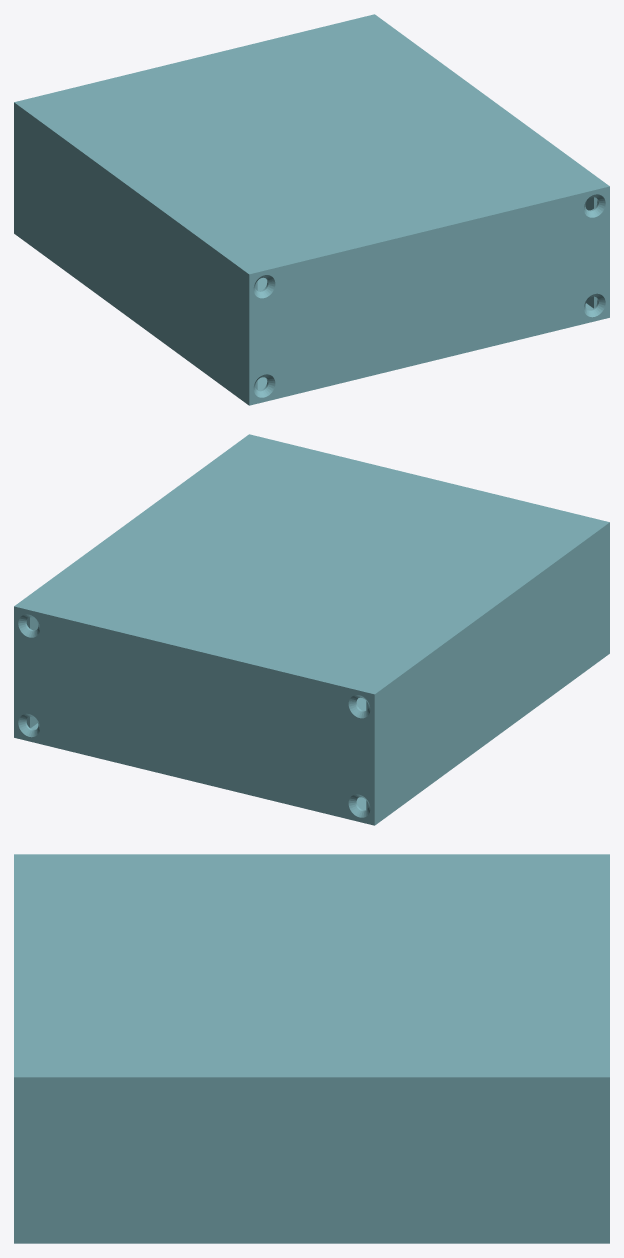
File: adafruit-enclosure-2230.glb
3 views of the same model, one above another, from view 1: azimuth 30°, elevation 25°; view 2: azimuth 150°, elevation 25°; view 3: azimuth 270°, elevation 25° (orthographic). The views are drawn at different scales.
Size of the model in its own units: 0.0828 by 0.0288 by 0.0935.
